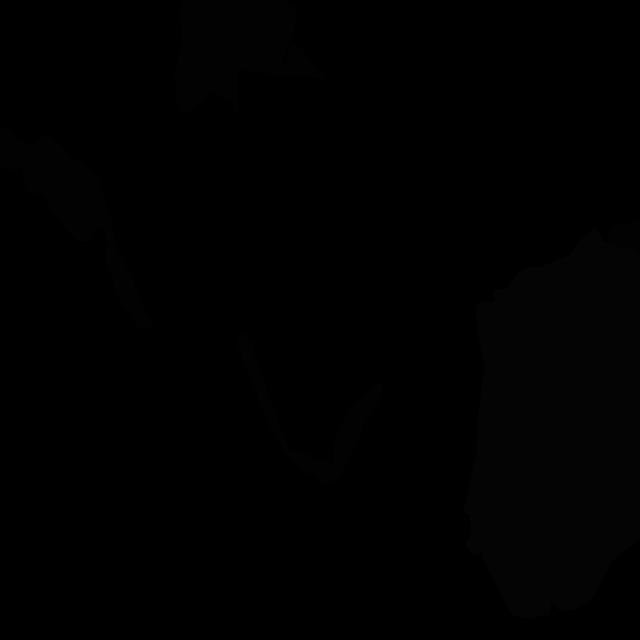cardboard: (0, 127, 154, 330), (238, 332, 384, 484), (174, 0, 326, 116), (608, 219, 640, 257)
soft_plastic: (463, 228, 640, 619)
